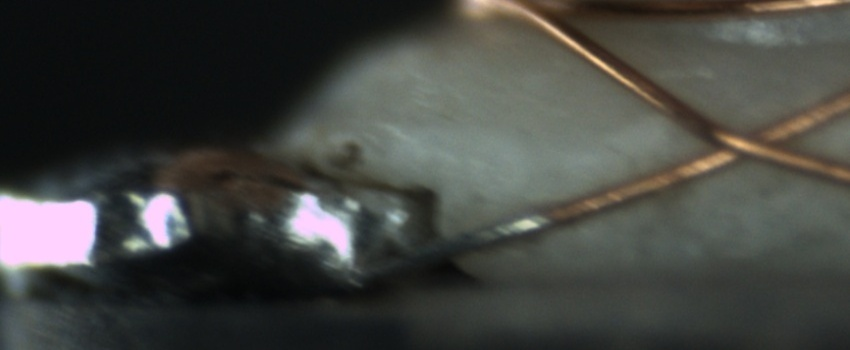CL: (670, 98, 818, 182)
TS: (355, 209, 554, 284)
